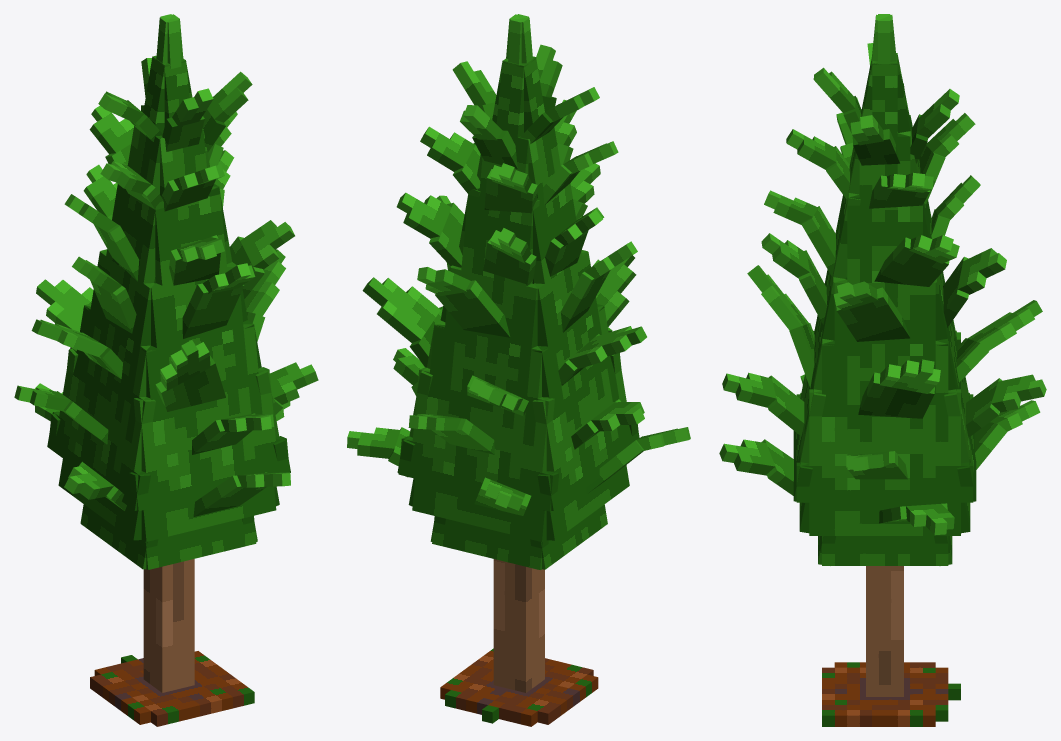
Rendered from pinetree_full_lv3.gltf.
3 renders of one model, left to right at view 1: azimuth 30°, elevation 25°; view 2: azimuth 150°, elevation 25°; view 3: azimuth 270°, elevation 25°, orthographic.
Visible parts, largest first — view 1: crown01$$(11)-Local, crown01$$(8)-Local, wood_full2-Local, b415-Local, s5$$(3)-Local, s6$$(3)-Local, s7$$(1)-Local, crown01$$(10)-Local, s4$$(7)-Local, s7$$(3)-Local, s10$$(3)-Local, s4$$(10)-Local (+28 smaller); view 2: crown01$$(9)-Local, crown01$$(8)-Local, wood_full2-Local, b415-Local, s7$$(2)-Local, s5$$(1)-Local, crown01$$(10)-Local, s7-Local, s4$$(6)-Local, s4$$(12)-Local, s7$$(3)-Local, s3$$(3)-Local (+31 smaller); view 3: crown01$$(10)-Local, wood_full2-Local, crown01$$(11)-Local, b415-Local, crown01$$(9)-Local, s5$$(2)-Local, s6$$(2)-Local, s3$$(2)-Local, s7$$(2)-Local, s7$$(1)-Local, s4$$(19)-Local, s7$$(3)-Local (+32 smaller).
Boxes of the visible parts, x1,y1,x2,y2 form: crown01$$(11)-Local: (129,60,289,569); crown01$$(8)-Local: (47,56,170,569); wood_full2-Local: (90,651,254,726); b415-Local: (143,559,194,692); s5$$(3)-Local: (182,283,244,338); s6$$(3)-Local: (155,355,225,411); s7$$(1)-Local: (36,279,93,331); crown01$$(10)-Local: (181,58,290,541); s4$$(7)-Local: (240,220,294,269); s7$$(3)-Local: (160,340,210,390); s10$$(3)-Local: (193,472,266,516); s4$$(10)-Local: (89,105,133,153); crown01$$(9)-Local: (398,61,559,569); crown01$$(8)-Local: (516,57,639,569); wood_full2-Local: (440,648,598,726); b415-Local: (493,559,544,692); s7$$(2)-Local: (362,277,440,342); s5$$(1)-Local: (435,280,510,337); crown01$$(10)-Local: (397,58,509,541); s7-Local: (569,326,646,369); s4$$(6)-Local: (396,192,451,238); s4$$(12)-Local: (420,126,475,171); s7$$(3)-Local: (593,255,636,326); s3$$(3)-Local: (484,169,537,213); crown01$$(10)-Local: (796,62,973,565); wood_full2-Local: (822,662,960,726); crown01$$(11)-Local: (793,59,880,564); b415-Local: (866,566,903,696); crown01$$(9)-Local: (889,53,976,564); s5$$(2)-Local: (836,287,910,341); s6$$(2)-Local: (858,372,934,418); s3$$(2)-Local: (874,237,949,286); s7$$(2)-Local: (879,359,940,393); s7$$(1)-Local: (967,300,1042,350); s4$$(19)-Local: (719,439,775,475); s7$$(3)-Local: (747,265,808,330).
Bounding box in the file's own units: 26.27 × 59.66 × 25.91.
66 materials, 66 textured.
